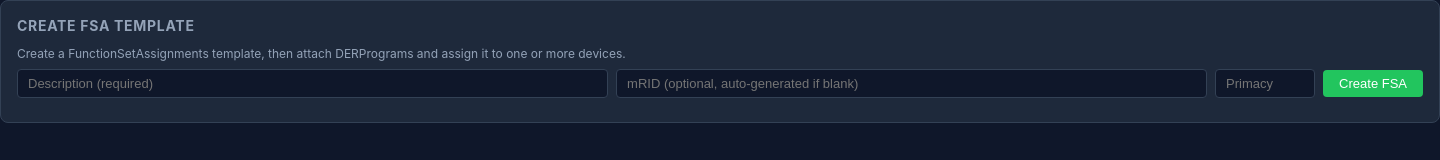
it: CreateFsa › refuses a blank description without posting
The width and height of the screenshot is (1440, 160).
Click the button "Create FSA".
click(1373, 84)  # box [1323, 70, 1423, 97]
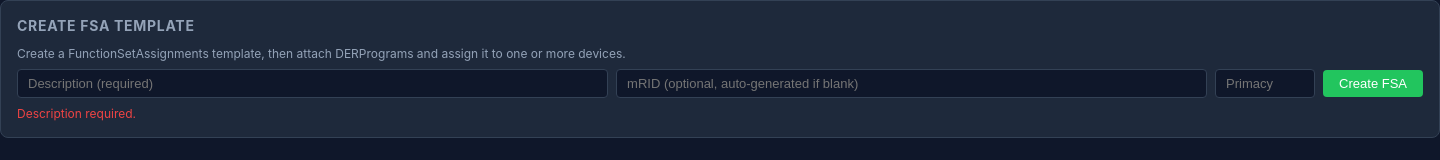
Expected: the text with id "createFSAResult" reads "Description required.", [17, 106, 136, 121]
